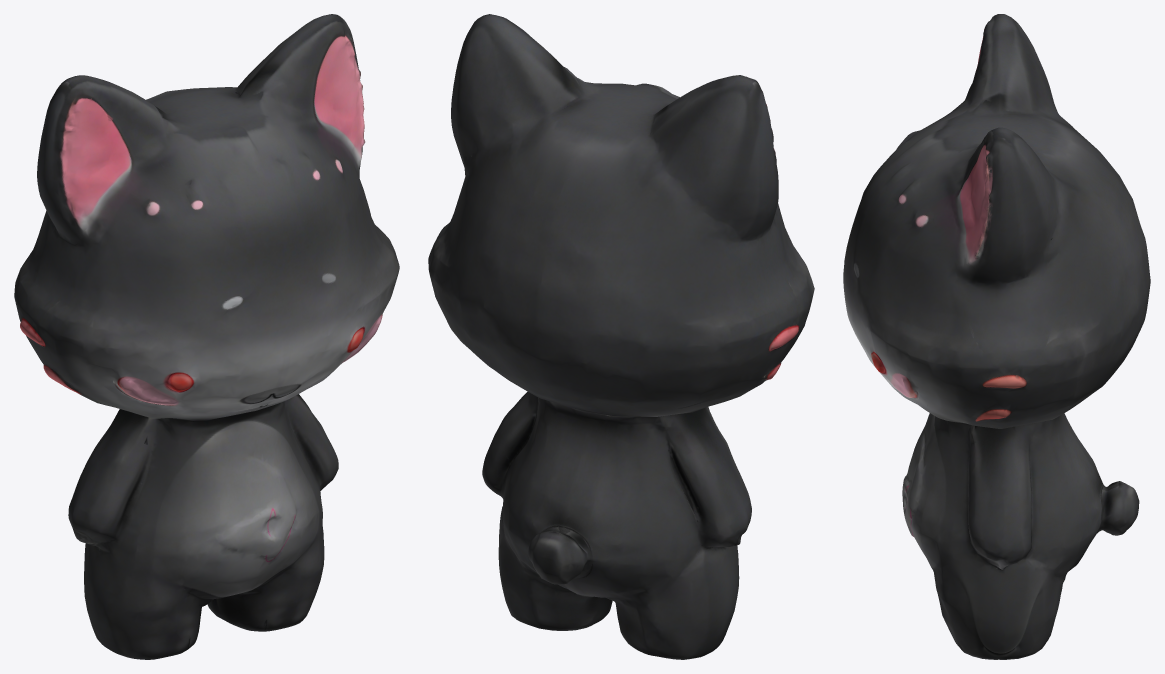
3 views of the same model, side by side, from view 1: azimuth 30°, elevation 25°; view 2: azimuth 150°, elevation 25°; view 3: azimuth 270°, elevation 25° (orthographic). The views are drawn at different scales.
Size of the model in its own units: 1.25 by 2 by 1.02.
1 material, 1 textured.
